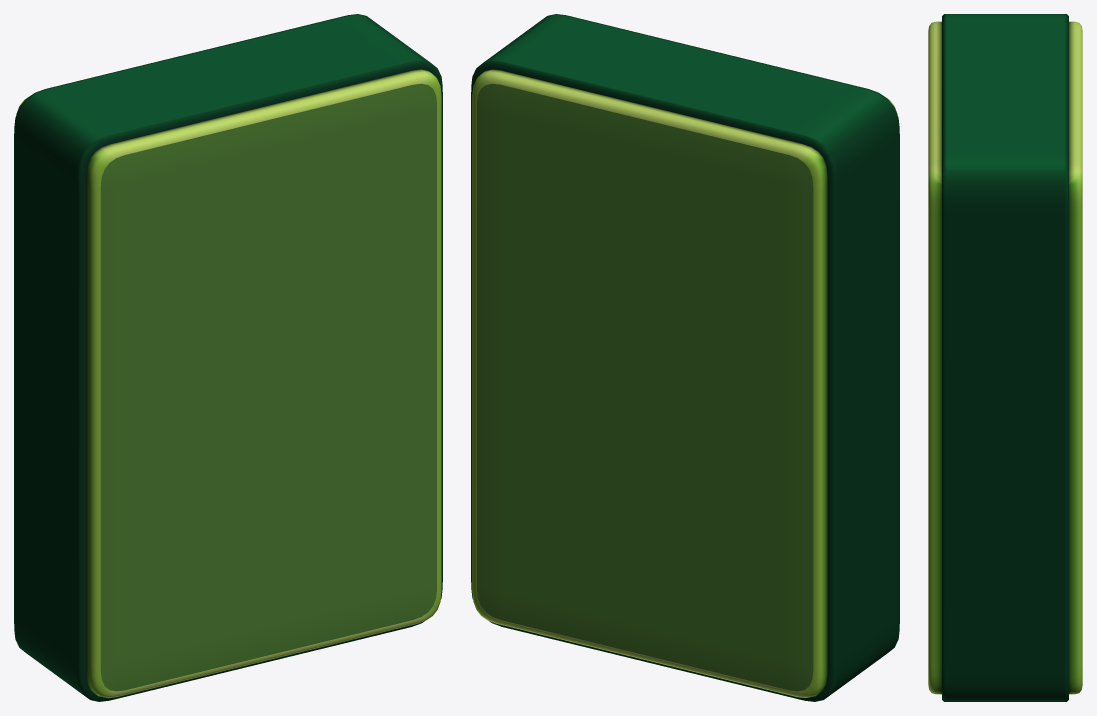
Rendered from LevelSelect_3DPanel_Green.FBX.
3 views of the same model, side by side, from view 1: azimuth 30°, elevation 25°; view 2: azimuth 150°, elevation 25°; view 3: azimuth 270°, elevation 25° (orthographic). The views are drawn at different scales.
Parts seen in each view (by area): view 1: PNL3D_LevelSelect_Green; view 2: PNL3D_LevelSelect_Green; view 3: PNL3D_LevelSelect_Green.
Part boxes in pixels (x1,y1,x2,y2): PNL3D_LevelSelect_Green: (14,14,442,701); PNL3D_LevelSelect_Green: (471,14,899,701); PNL3D_LevelSelect_Green: (928,14,1082,701).
Size of the model in its own units: 104 by 154 by 40.
